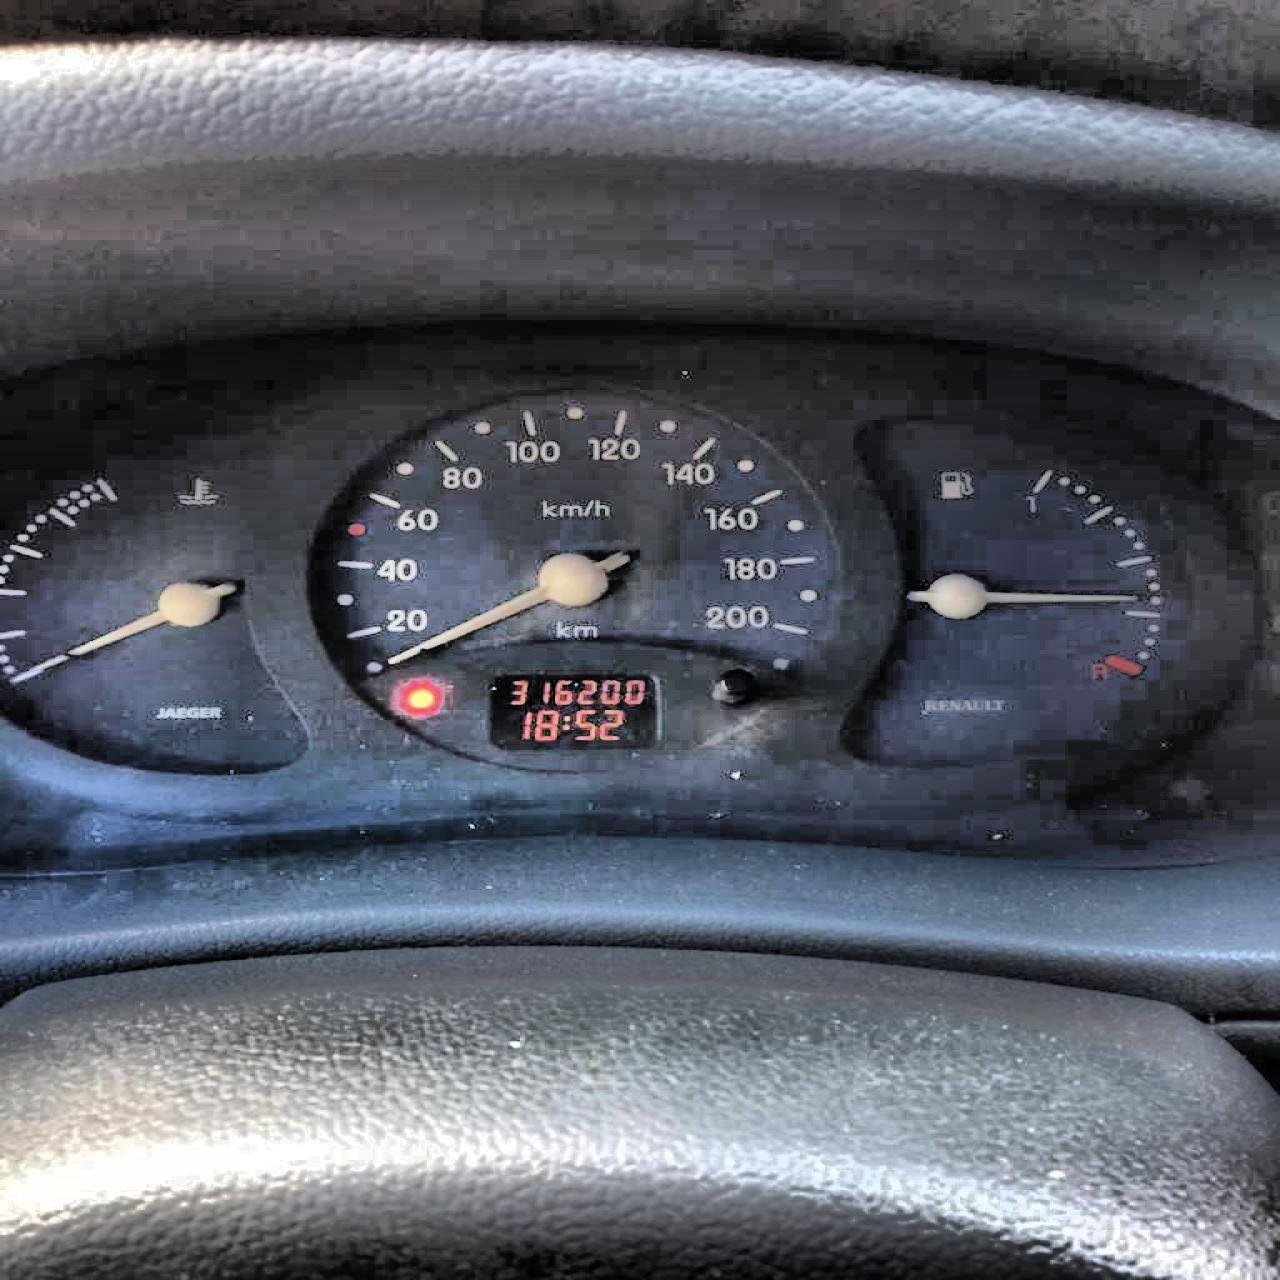0: (600, 679, 620, 703), (624, 679, 641, 703)
1: (522, 710, 531, 738), (542, 681, 549, 703)
2: (597, 708, 621, 738), (577, 680, 595, 704)
3: (509, 679, 526, 704)
5: (573, 709, 594, 740)
6: (553, 680, 572, 704)
8: (533, 710, 557, 738)
X: (560, 714, 570, 729)
odometer: (486, 670, 660, 750)
